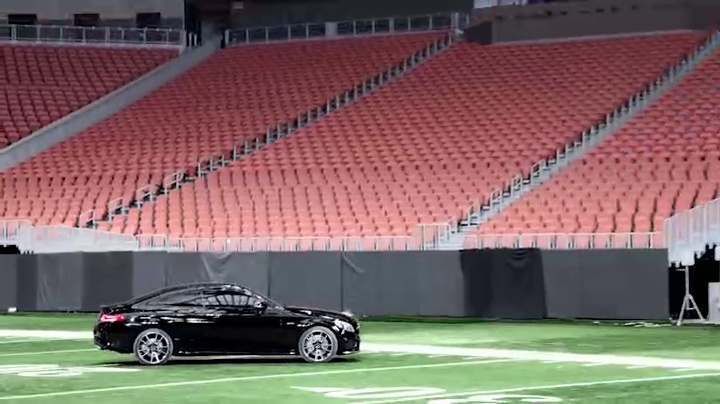amg: (93, 281, 362, 366)
